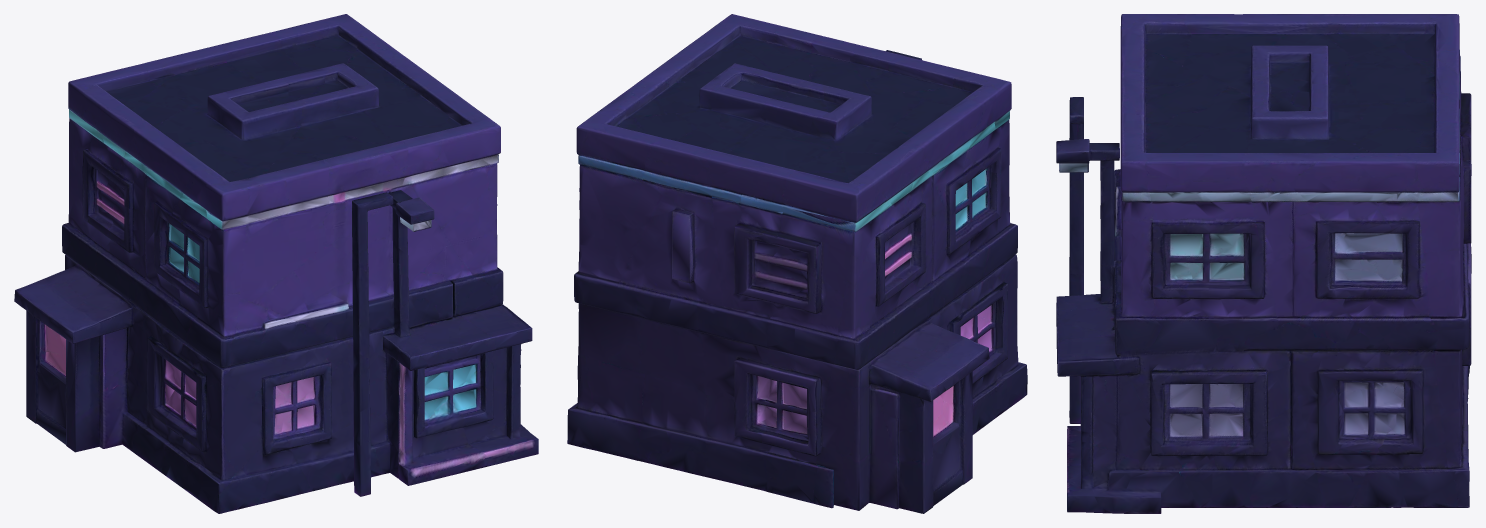
Rendered from building-a-cyan-roof.glb.
3 renders of one model, left to right at view 1: azimuth 30°, elevation 25°; view 2: azimuth 150°, elevation 25°; view 3: azimuth 270°, elevation 25°, orthographic. The views are drawn at different scales.
Visible parts, largest first — view 1: mesh_node; view 2: mesh_node; view 3: mesh_node.
Part boxes in pixels (left/top/right/bottom): mesh_node: left=14, top=14, right=538, bottom=513; mesh_node: left=567, top=14, right=1027, bottom=513; mesh_node: left=1056, top=14, right=1471, bottom=513.
Size of the model in its own units: 1.9 by 1.64 by 1.74.
1 material, 1 textured.
